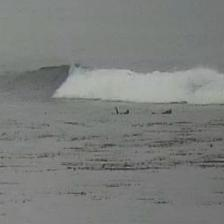surfer: (150, 108, 172, 115), (114, 106, 131, 114)
